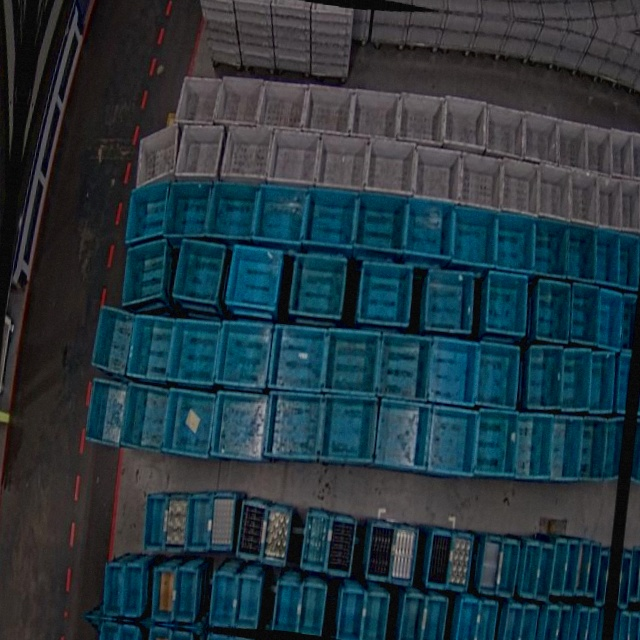Box: (354, 258, 417, 333), (287, 250, 350, 324), (223, 242, 285, 316), (213, 316, 274, 391), (321, 325, 383, 398), (266, 323, 328, 395), (161, 384, 220, 459), (212, 388, 271, 463), (119, 235, 174, 313), (421, 266, 480, 338), (321, 393, 379, 466), (269, 389, 326, 463), (300, 184, 361, 253), (115, 379, 170, 452), (169, 236, 227, 305), (168, 315, 223, 387), (349, 190, 408, 257), (252, 181, 310, 249), (373, 399, 426, 471), (426, 335, 479, 407), (217, 122, 273, 190), (313, 132, 371, 197), (266, 127, 322, 194), (204, 176, 259, 244), (82, 375, 133, 448), (361, 136, 418, 201), (400, 196, 456, 262), (376, 332, 428, 403), (123, 311, 175, 382), (424, 406, 476, 476), (163, 175, 217, 242), (170, 120, 226, 184), (472, 340, 522, 410), (123, 180, 172, 251), (471, 408, 520, 479), (410, 144, 464, 208), (481, 270, 531, 339), (446, 203, 499, 268), (90, 303, 135, 378), (348, 86, 404, 146), (254, 76, 310, 136), (394, 88, 449, 149), (302, 79, 358, 138), (135, 119, 179, 193), (175, 72, 228, 133), (440, 93, 492, 154), (214, 74, 266, 134), (455, 152, 505, 214), (490, 212, 538, 275), (521, 344, 566, 411), (529, 278, 573, 344), (481, 101, 529, 161), (517, 109, 564, 168), (496, 158, 542, 216), (528, 217, 570, 278), (554, 347, 592, 412), (533, 165, 575, 223), (561, 222, 601, 282), (546, 416, 582, 482), (522, 414, 557, 481), (564, 171, 604, 228), (565, 283, 601, 346), (235, 498, 269, 563), (575, 417, 609, 482), (182, 491, 216, 555), (585, 351, 619, 415), (257, 502, 291, 565), (301, 508, 334, 572), (578, 123, 617, 177), (590, 176, 628, 231), (207, 490, 240, 553), (553, 120, 591, 174), (591, 226, 625, 286), (325, 513, 356, 577), (593, 289, 625, 350), (364, 520, 395, 582), (208, 570, 240, 629), (163, 494, 193, 556), (388, 524, 418, 586), (140, 493, 170, 555), (425, 527, 454, 590), (171, 566, 201, 625), (116, 561, 146, 620), (231, 577, 262, 634), (604, 127, 637, 180), (446, 530, 474, 592), (336, 586, 368, 640), (149, 564, 177, 624), (273, 579, 304, 633), (296, 584, 327, 636), (477, 533, 503, 594), (358, 589, 389, 640), (602, 415, 625, 481), (498, 537, 522, 596), (614, 180, 640, 234), (100, 562, 125, 618), (615, 233, 640, 289), (398, 592, 427, 640), (617, 293, 639, 354), (420, 595, 448, 640), (550, 536, 571, 596), (522, 539, 543, 598), (613, 352, 632, 416), (562, 537, 582, 597), (453, 597, 480, 640), (575, 539, 594, 598), (584, 541, 603, 600), (472, 602, 498, 640), (499, 601, 523, 640), (595, 550, 611, 607), (516, 605, 540, 640), (539, 604, 560, 640), (553, 606, 572, 640), (571, 606, 590, 640), (628, 132, 640, 184), (563, 605, 580, 640), (582, 607, 600, 640), (311, 2, 354, 15), (271, 0, 313, 10), (234, 0, 274, 6), (198, 0, 237, 2)
